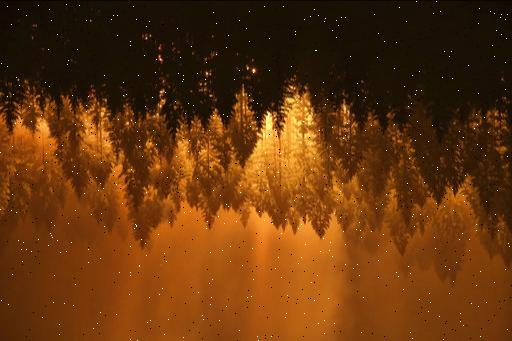fire: (212, 60, 328, 167)
